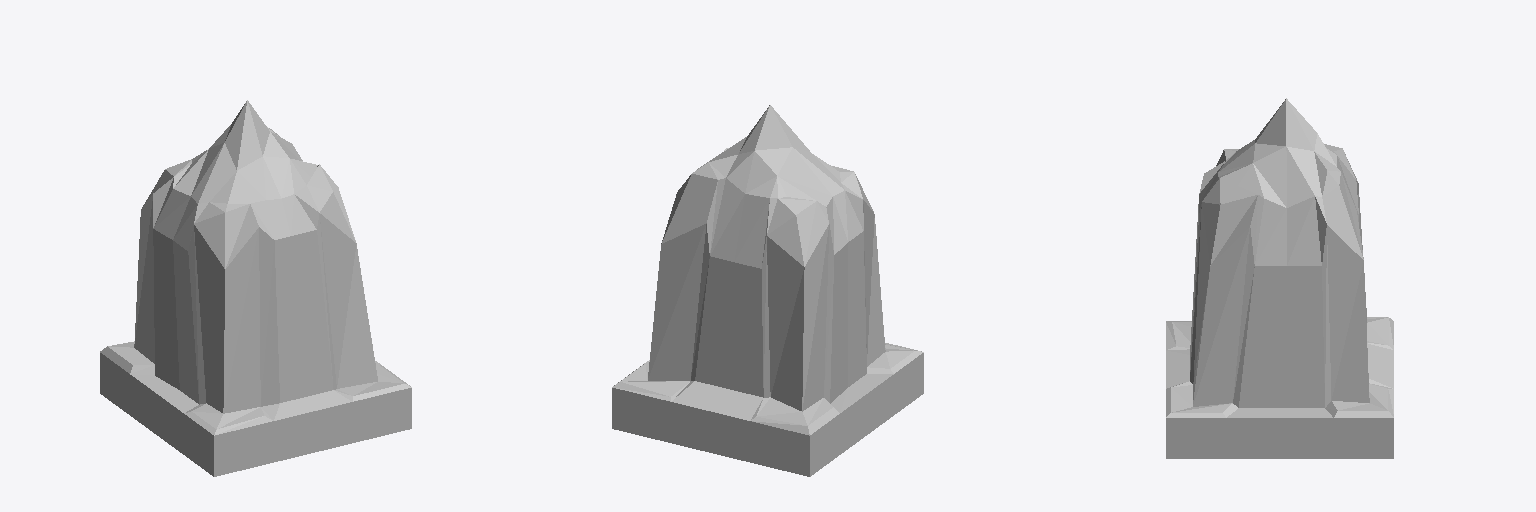
Rendered from House.obj.
3 views of the same model, side by side, from view 1: azimuth 30°, elevation 25°; view 2: azimuth 150°, elevation 25°; view 3: azimuth 270°, elevation 25° (orthographic).
Parts seen in each view (by area): view 1: Cube; view 2: Cube; view 3: Cube.
Boxes of the visible parts, <box> form: Cube: <box>100,100,411,476</box>; Cube: <box>612,105,923,476</box>; Cube: <box>1166,98,1393,458</box>.
Bounding box in the file's own units: 2 × 2.99 × 2.